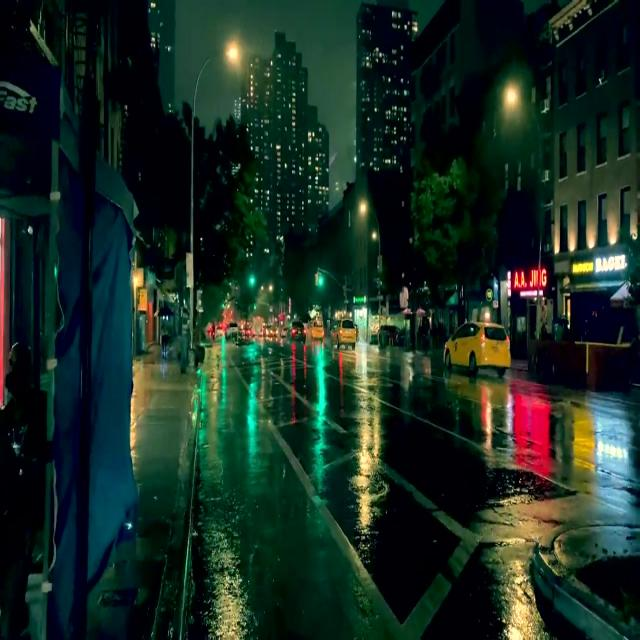Car: (442, 321, 509, 376), (329, 319, 356, 345)
